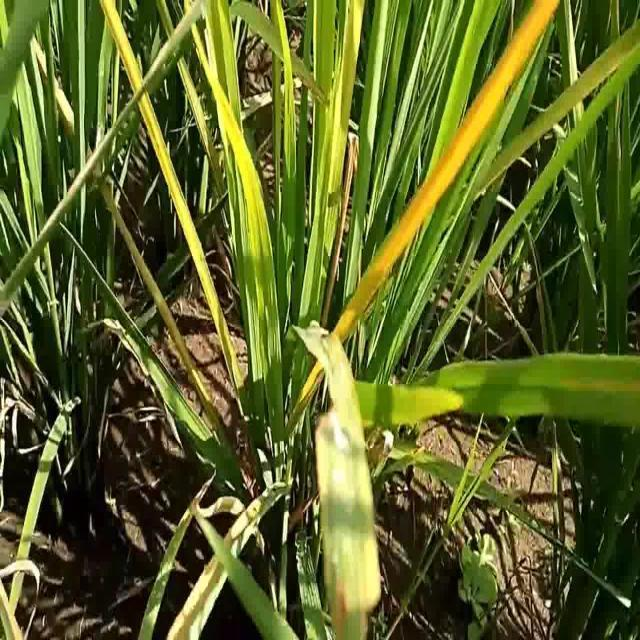Rice Tungro: (339, 1, 565, 345), (97, 1, 219, 320), (186, 1, 274, 256), (302, 1, 366, 255)
